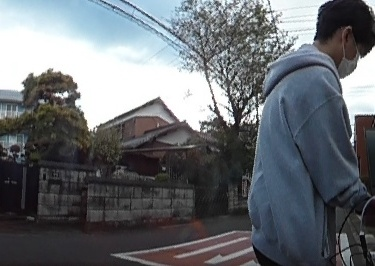person: (250, 3, 373, 266)
